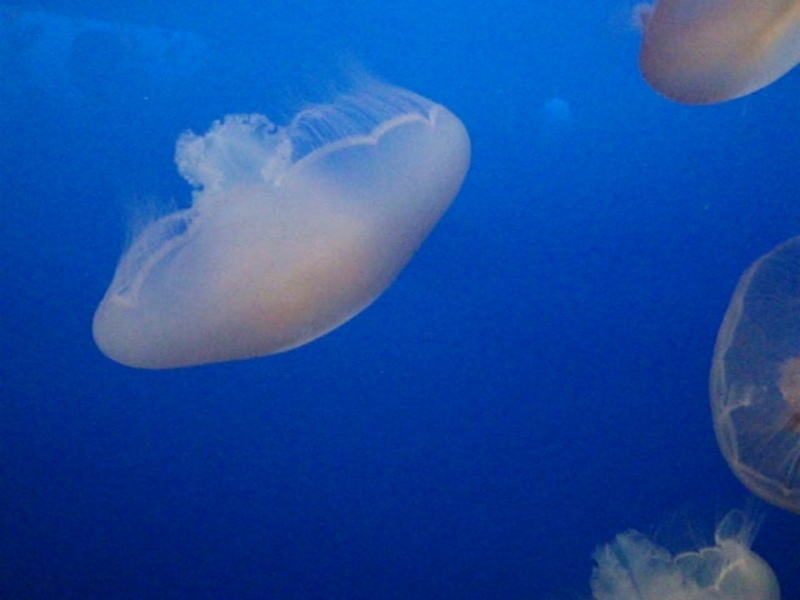Jellyfish: (105, 76, 480, 372), (709, 238, 798, 512), (592, 503, 778, 598), (638, 0, 798, 109)
